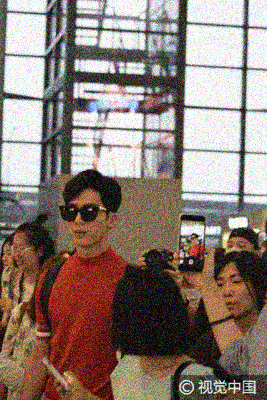without_mask: (66, 200, 108, 248), (216, 272, 257, 318), (12, 240, 36, 269), (1, 248, 15, 273)
